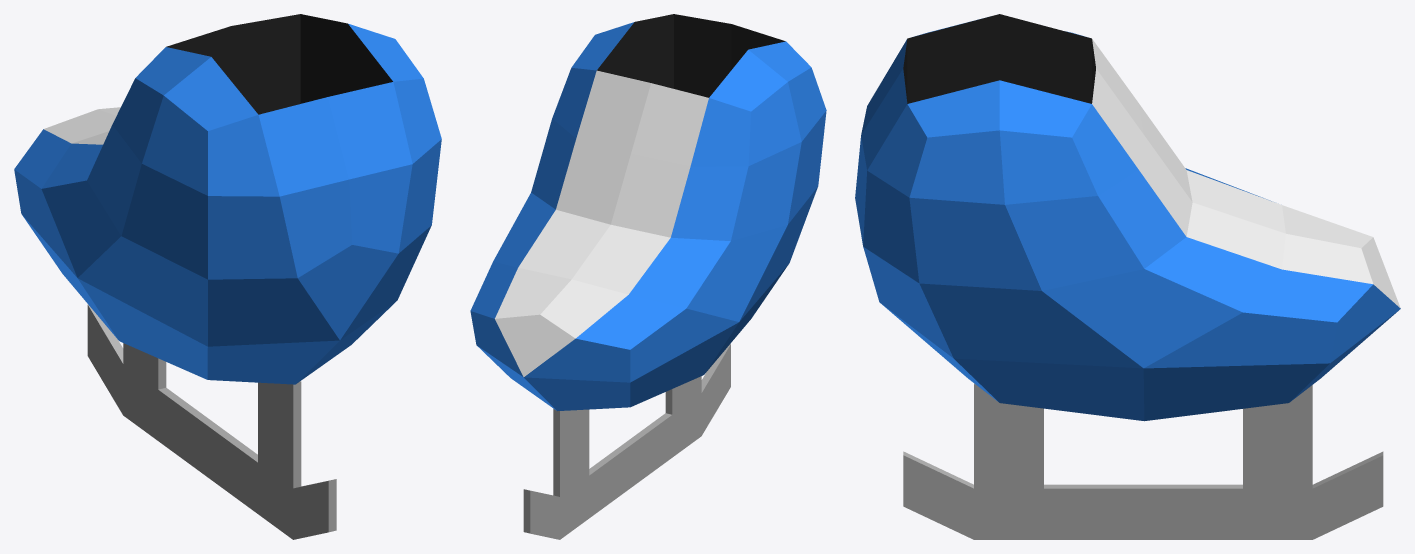
The model's file is iceSkateWeaponThrown.glb.
The picture shows the model from 3 angles, left to right: view 1: azimuth 30°, elevation 25°; view 2: azimuth 150°, elevation 25°; view 3: azimuth 270°, elevation 25°; orthographic projection. The views are drawn at different scales.
Visible parts, largest first — view 1: Cube; view 2: Cube; view 3: Cube.
Part boxes in pixels (x1,y1,x2,y2): Cube: (14,14,441,539); Cube: (470,14,826,539); Cube: (855,14,1400,539).
Size of the model in its own units: 1.02 by 1.74 by 1.77.
1 material, 1 textured.
